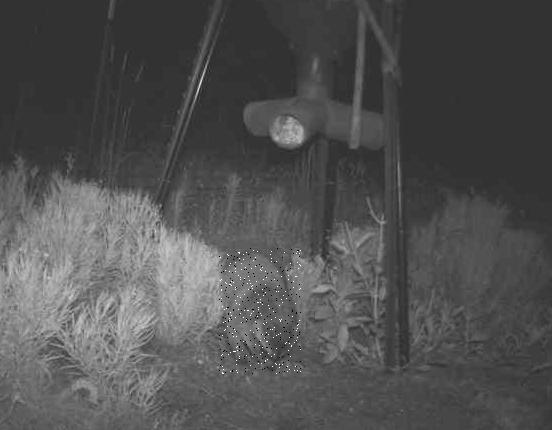Raccoon: (219, 249, 301, 375)
